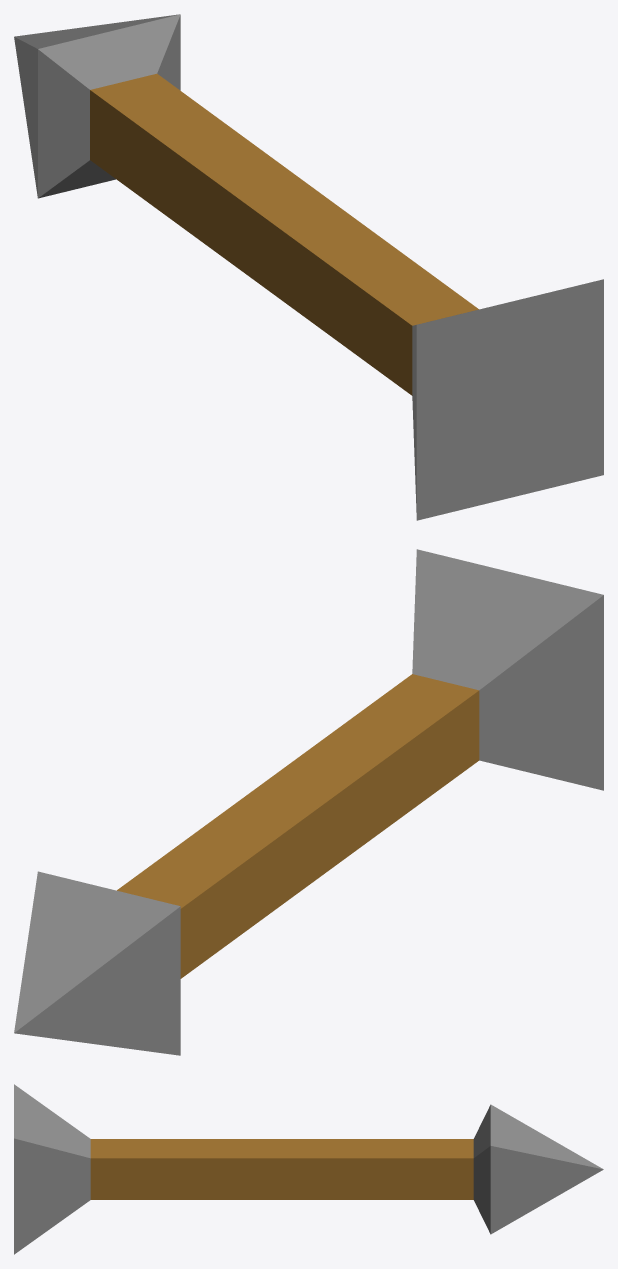
Rendered from ArrowRemaster.fbx.
3 views of the same model, one above another, from view 1: azimuth 30°, elevation 25°; view 2: azimuth 150°, elevation 25°; view 3: azimuth 270°, elevation 25° (orthographic). The views are drawn at different scales.
Visible parts, largest first — view 1: Cube; view 2: Cube; view 3: Cube.
Boxes of the visible parts, box(x1,y1,x2,y2) form: Cube: box(14, 14, 603, 520); Cube: box(14, 549, 603, 1055); Cube: box(14, 1084, 603, 1254).
Size of the model in its own units: 6.41 by 6.41 by 29.42.
